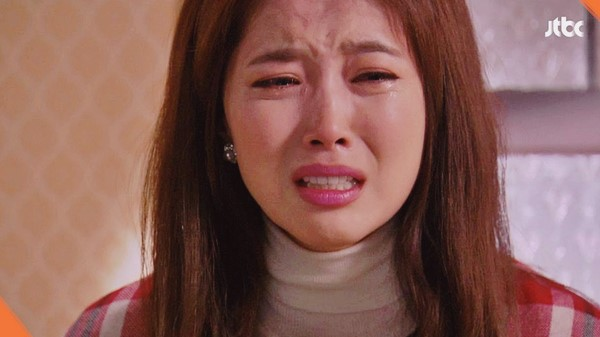sad: (221, 1, 416, 242)
